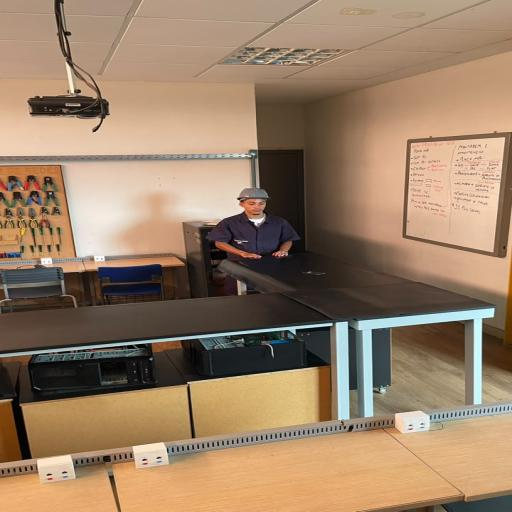CAPACETE: (237, 188, 270, 200)
